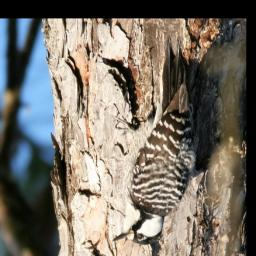Woodpecker: (112, 37, 198, 246)
